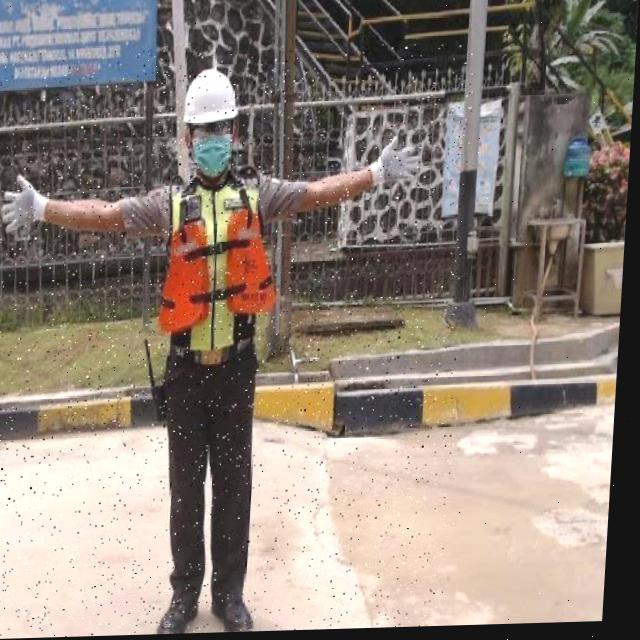Gloves: (0, 173, 52, 238), (370, 135, 425, 188)
Helmet: (179, 69, 241, 128)
Safety-Boot: (216, 591, 262, 634), (164, 594, 207, 635)
Safety-Vest: (160, 176, 284, 353)
